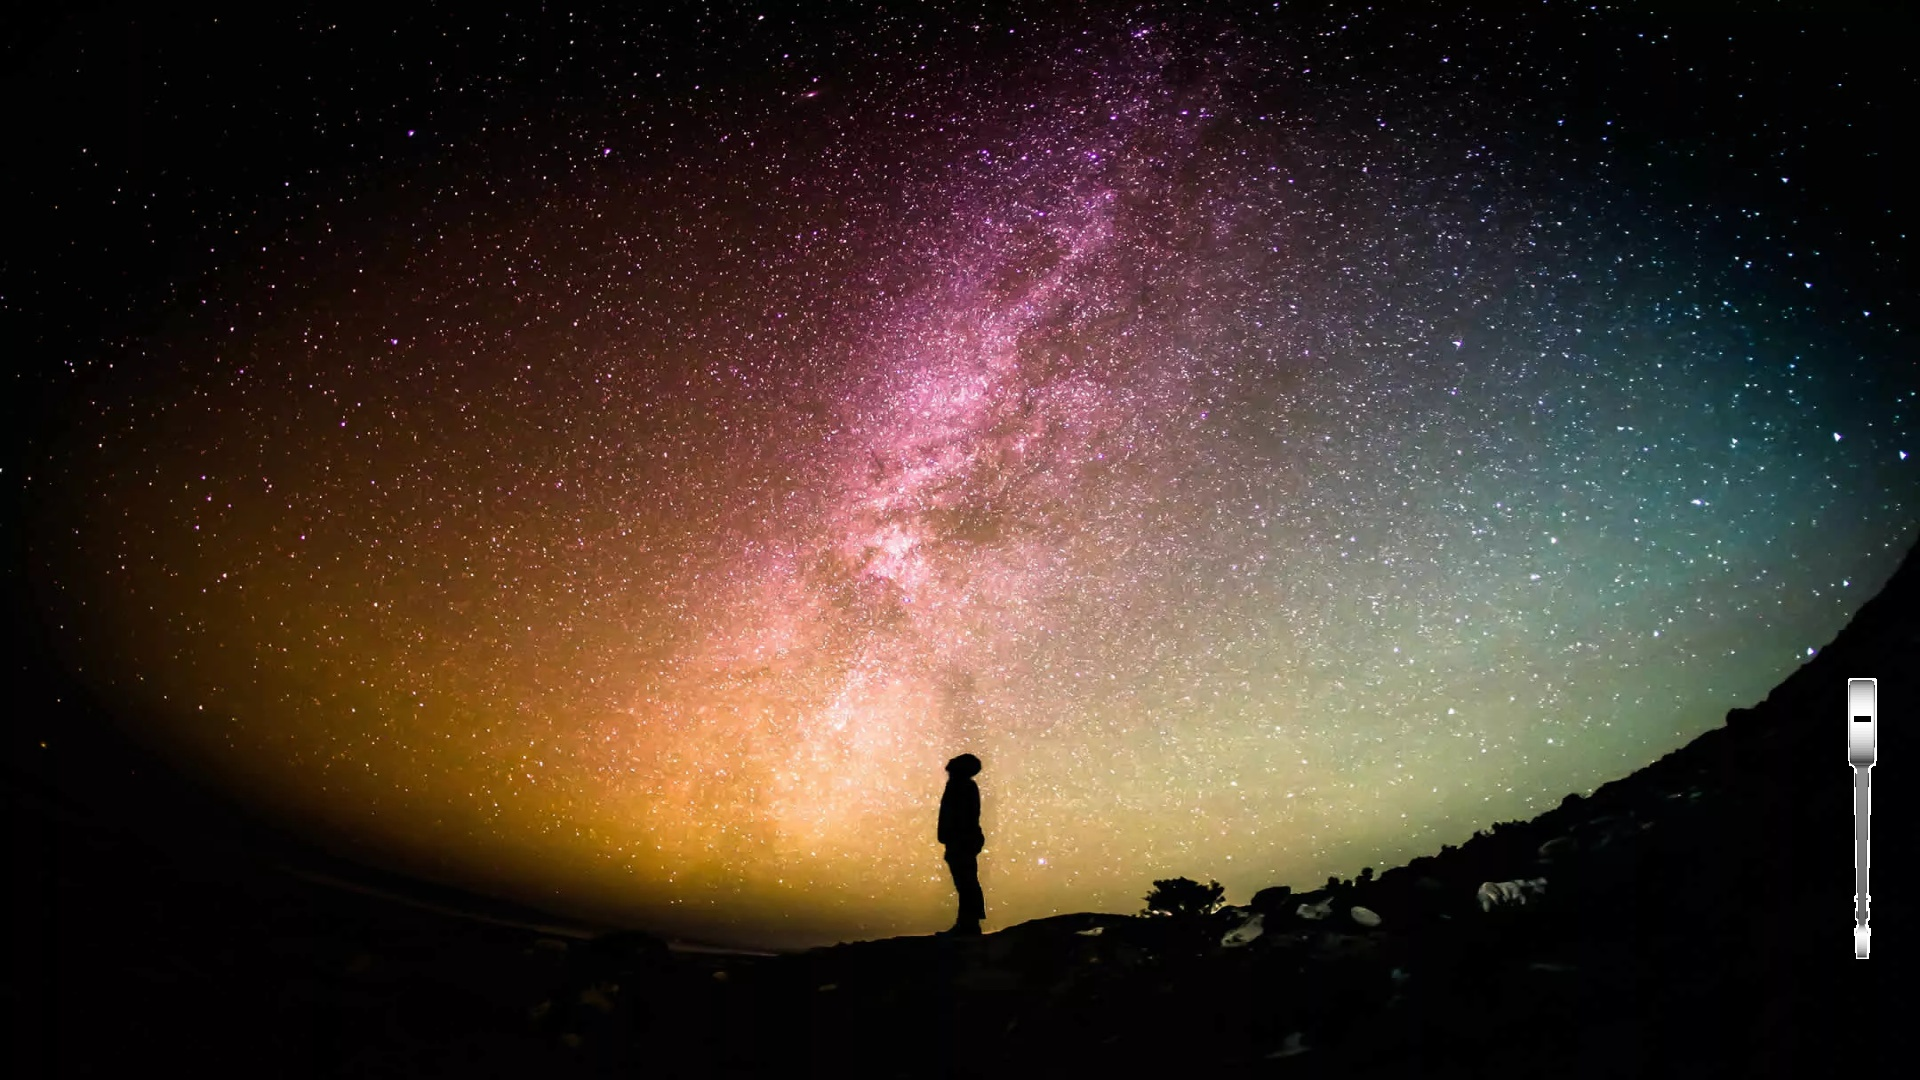Mixed Key: (1847, 678, 1876, 957)
